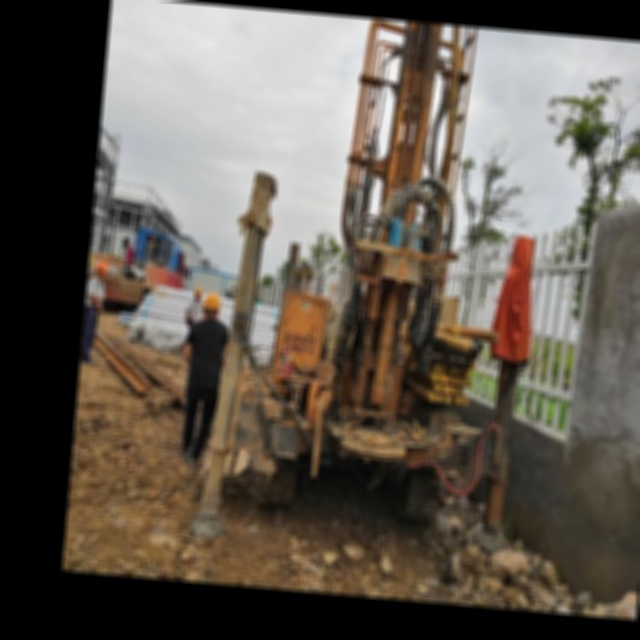Con_Casco: (202, 291, 221, 318), (97, 261, 109, 278)
Sin_Chaleco: (189, 317, 227, 378), (85, 276, 105, 311)
